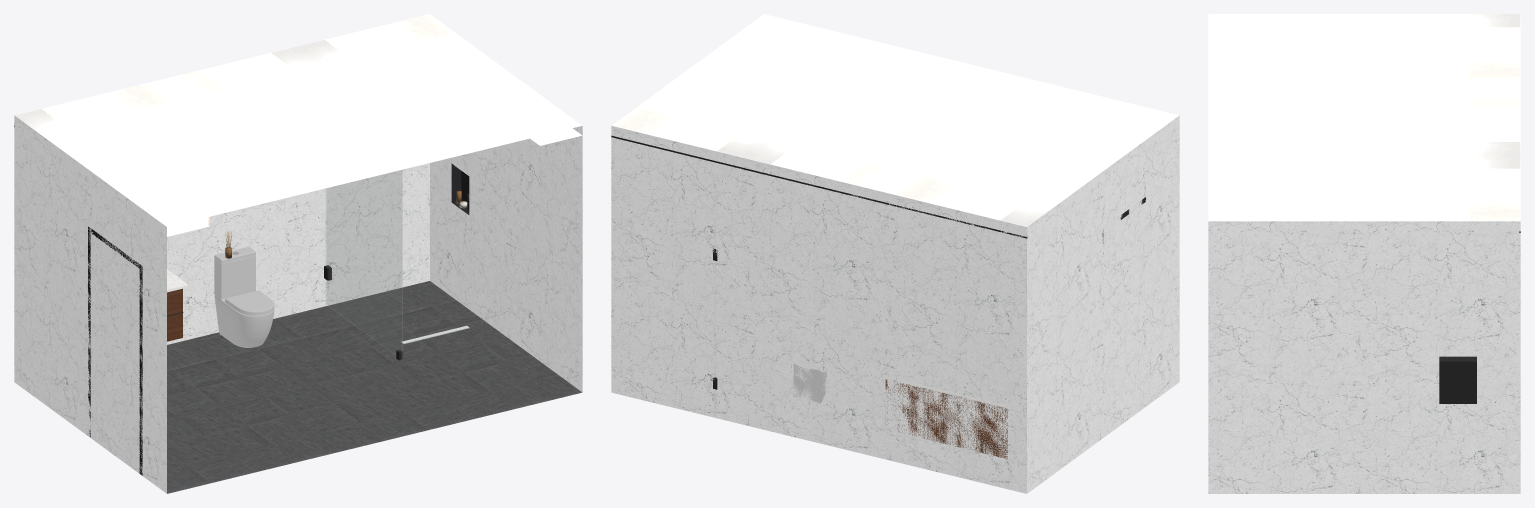
File: bath_v7-web.glb
3 views of the same model, side by side, from view 1: azimuth 30°, elevation 25°; view 2: azimuth 150°, elevation 25°; view 3: azimuth 270°, elevation 25° (orthographic). The views are drawn at different scales.
Parts seen in each view (by area): view 1: Shell_Ceiling, Shell_Floor, Shell_Left Wall, Shell_Right Wall, Shell_Back Wall, Glass Panel, LM_Toilet, Door Frame, LM_Vanity, Niche; view 2: Shell_Back Wall, Shell_Ceiling, Shell_Left Wall, LM_Vanity, LM_Toilet, Shadow Gap; view 3: Shell_Right Wall, Shell_Ceiling, Niche.
Boxes of the visible parts, x1,y1,x2,y2 form: Shell_Ceiling: (15,14,582,226); Shell_Floor: (167,281,581,493); Shell_Left Wall: (14,115,166,493); Shell_Right Wall: (430,126,582,392); Shell_Back Wall: (167,163,429,344); Glass Panel: (326,170,402,359); LM_Toilet: (214,247,274,347); Door Frame: (88,226,142,475); LM_Vanity: (167,269,188,341); Niche: (451,163,469,214); Shell_Back Wall: (611,126,1026,493); Shell_Ceiling: (611,14,1178,226); Shell_Left Wall: (1027,115,1179,493); LM_Vanity: (882,375,1010,458); LM_Toilet: (793,363,825,403); Shadow Gap: (611,135,1027,238); Shell_Right Wall: (1208,221,1520,493); Shell_Ceiling: (1208,14,1520,221); Niche: (1439,356,1476,403).
Size of the model in its own units: 4.51 by 2.7 by 2.8.
Materials: 26 (9 with a texture image).
